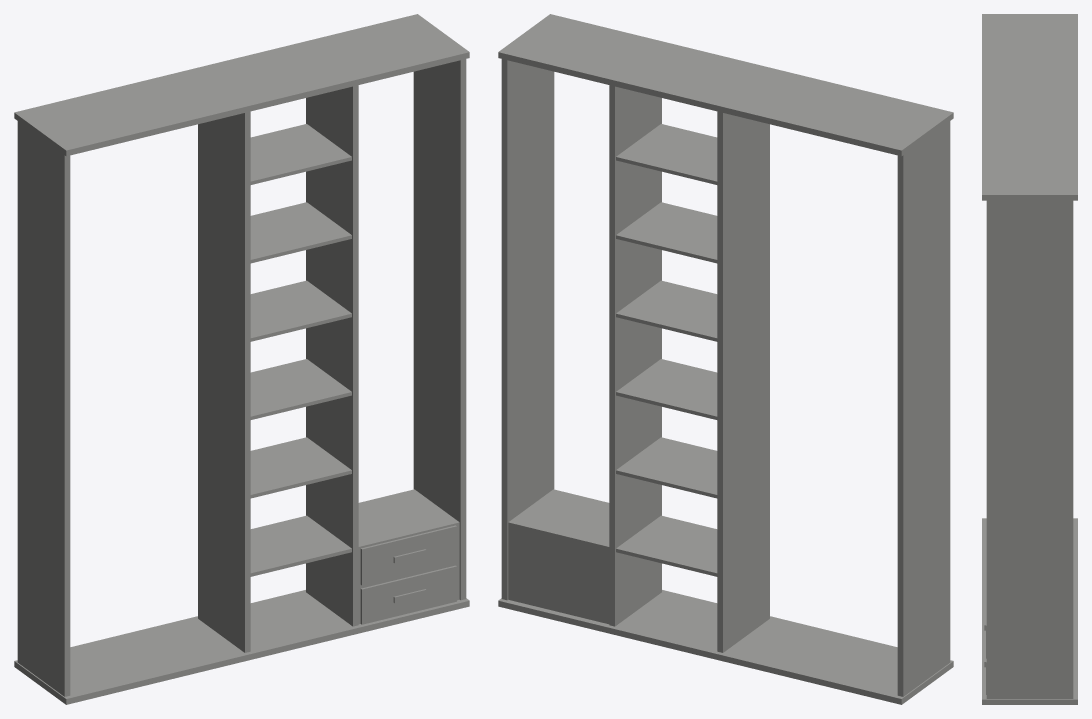
The model's file is Shelf_Large.glb.
3 renders of one model, left to right at view 1: azimuth 30°, elevation 25°; view 2: azimuth 150°, elevation 25°; view 3: azimuth 270°, elevation 25°, orthographic. The views are drawn at different scales.
Visible parts, largest first — view 1: Shelf_Large; view 2: Shelf_Large; view 3: Shelf_Large.
Boxes of the visible parts, x1,y1,x2,y2 form: Shelf_Large: [14, 14, 469, 704]; Shelf_Large: [498, 14, 953, 704]; Shelf_Large: [982, 14, 1077, 704].
Size of the model in its own units: 1.65 by 2.17 by 0.3697.
Materials: 1 (1 with a texture image).
